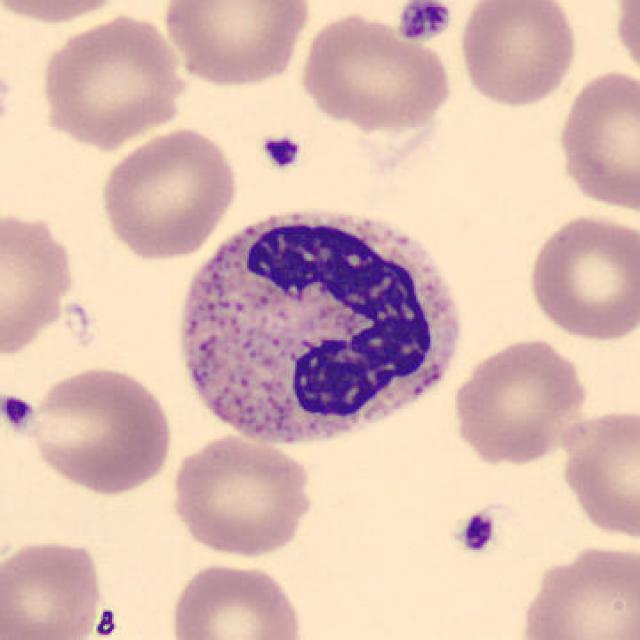Neutrophil: (167, 194, 471, 464)
Platelets: (395, 0, 455, 44), (455, 508, 498, 557), (258, 130, 306, 173), (0, 389, 37, 433), (90, 604, 119, 640)
RBC: (36, 10, 190, 150), (20, 362, 176, 498), (96, 123, 242, 261), (297, 9, 455, 132), (167, 432, 317, 561), (448, 333, 592, 467), (523, 210, 638, 344), (158, 0, 315, 90), (455, 0, 581, 111), (553, 65, 638, 215), (0, 204, 80, 360), (515, 539, 638, 640), (165, 559, 308, 640), (555, 406, 638, 543), (0, 534, 107, 640), (0, 0, 135, 26), (610, 0, 638, 88)
